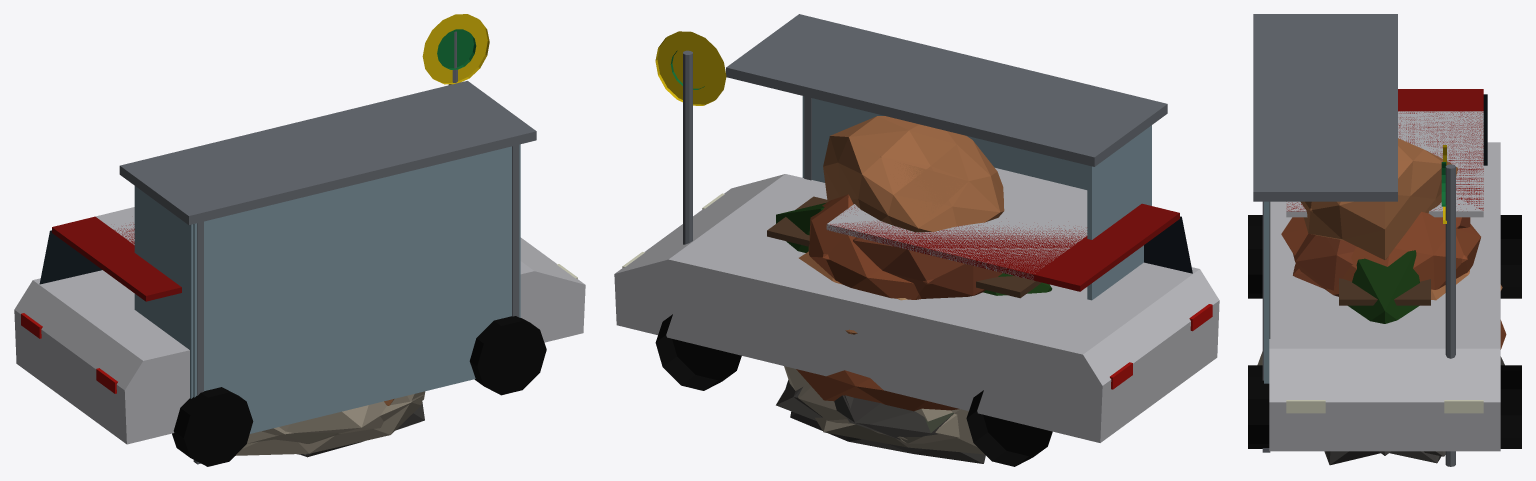
File: deco.glb
3 renders of one model, left to right at view 1: azimuth 30°, elevation 25°; view 2: azimuth 150°, elevation 25°; view 3: azimuth 270°, elevation 25°, orthographic. The views are drawn at different scales.
Parts seen in each view (by area): view 1: haltestelle, auto_0, auto_2, fels_kalk_2, fels_kalk_0, fels_kalk_1; view 2: auto_0, haltestelle, fels_sand_2, auto_2, fels_sand_0, fels_kalk_2, holzstapel, fels_sand_2_lod, fels_moos_2, fels_moos_0, fels_granit_2, fels_kalk_1 (+3 smaller); view 3: auto_0, haltestelle, fels_sand_2, auto_2, hecke, fels_sand_0, holzstapel, fels_granit_2.
Boxes of the visible parts, left/top/right/bottom form: haltestelle: left=119, top=14, right=536, bottom=464; auto_0: left=14, top=207, right=585, bottom=466; auto_2: left=39, top=216, right=181, bottom=301; fels_kalk_2: left=235, top=391, right=423, bottom=455; fels_kalk_0: left=247, top=391, right=425, bottom=443; fels_kalk_1: left=262, top=394, right=423, bottom=443; auto_0: left=614, top=168, right=1219, bottom=466; haltestelle: left=655, top=14, right=1167, bottom=300; fels_sand_2: left=808, top=116, right=1004, bottom=300; auto_2: left=827, top=203, right=1192, bottom=291; fels_sand_0: left=796, top=237, right=1002, bottom=411; fels_kalk_2: left=815, top=409, right=984, bottom=454; holzstapel: left=767, top=196, right=1041, bottom=298; fels_sand_2_lod: left=822, top=156, right=968, bottom=259; fels_moos_2: left=844, top=395, right=954, bottom=439; fels_moos_0: left=784, top=380, right=914, bottom=428; fels_granit_2: left=790, top=411, right=985, bottom=463; fels_kalk_1: left=784, top=366, right=907, bottom=440; auto_0: left=1248, top=111, right=1521, bottom=451; haltestelle: left=1253, top=14, right=1455, bottom=466; fels_sand_2: left=1281, top=138, right=1480, bottom=296; auto_2: left=1286, top=89, right=1487, bottom=211; hecke: left=1348, top=250, right=1419, bottom=323; fels_sand_0: left=1293, top=217, right=1506, bottom=349; holzstapel: left=1339, top=278, right=1430, bottom=305; fels_granit_2: left=1324, top=451, right=1441, bottom=465.
Bounding box in the file's own units: 4.26 × 3.03 × 2.08.
